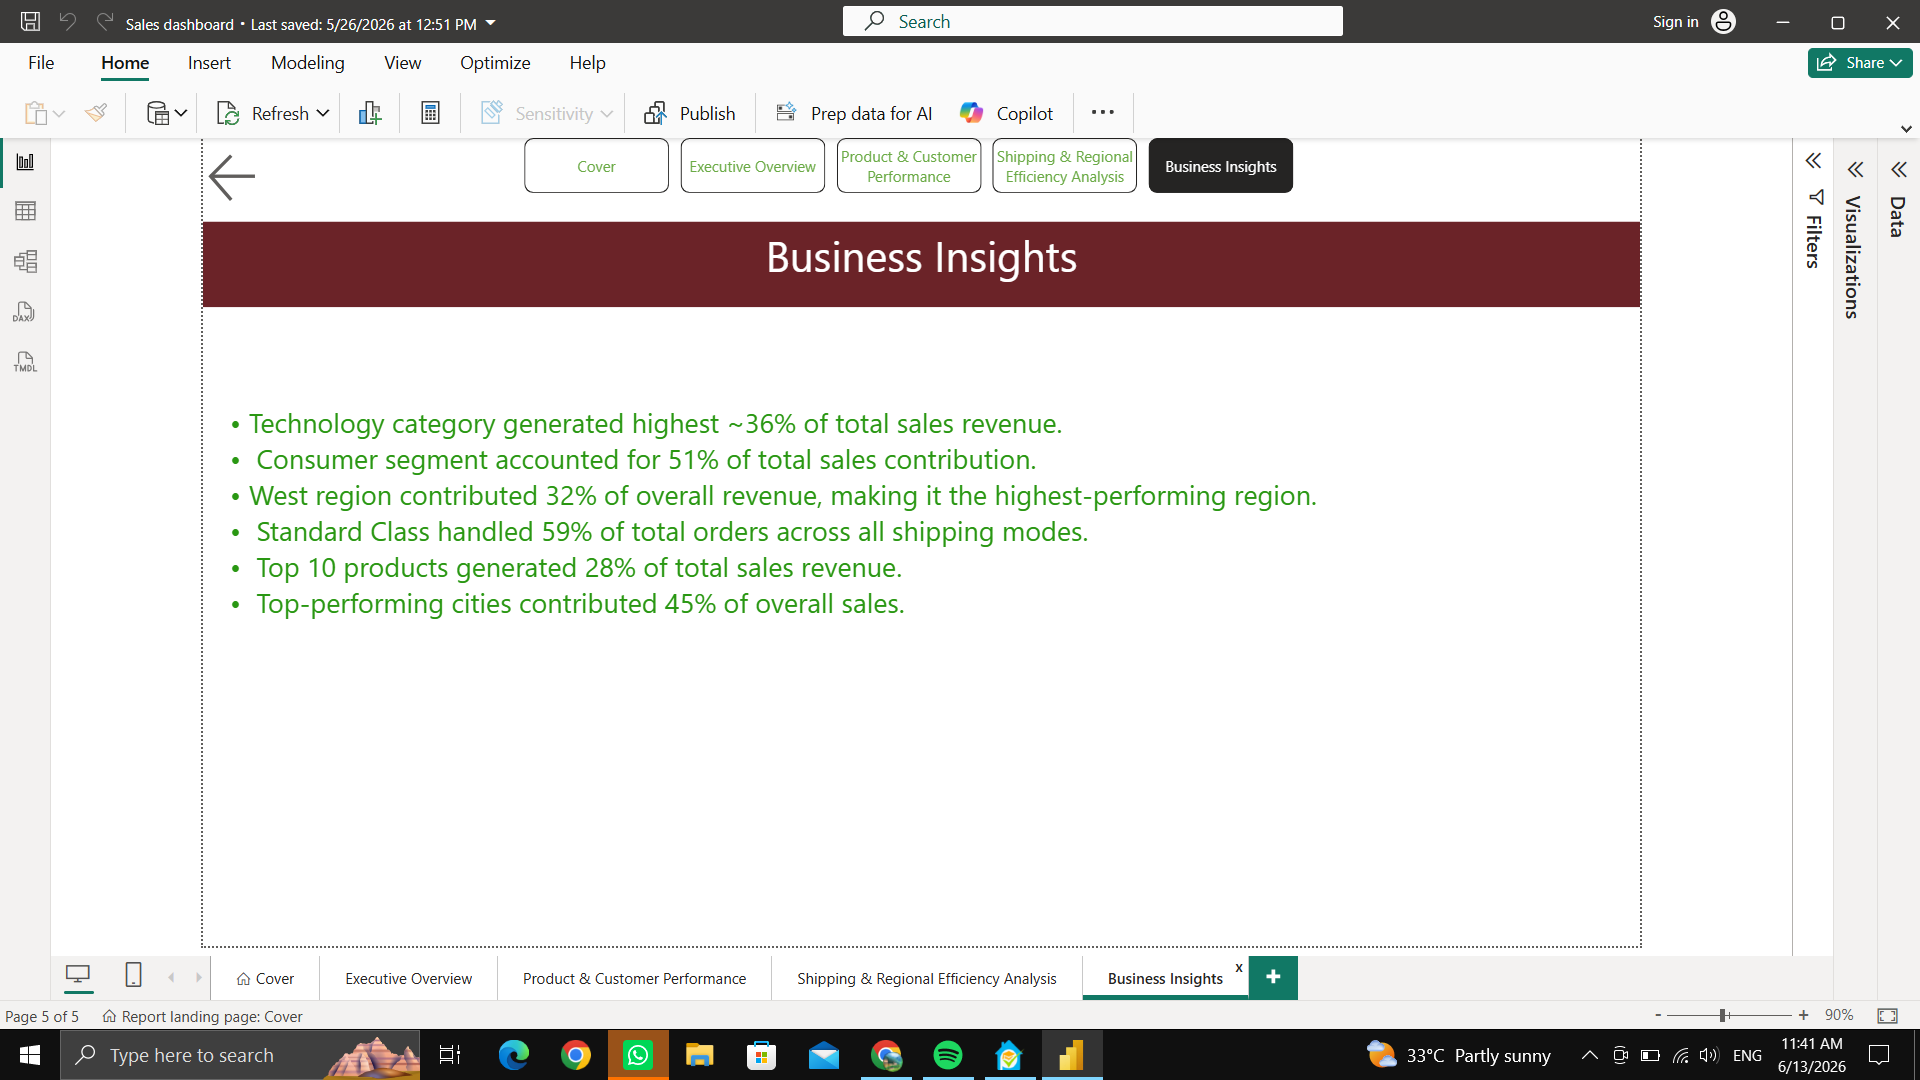

Layout of this report page (visuals, bound fields, positions):
{"tool":"powerbi","page":{"name":"Business Insights","canvas":[1280,720],"ordinal":4},"visuals":[{"type":"textbox","box":[0,196.6,1280,388.5],"z":0},{"type":"textbox","box":[0,74.8,1280,76],"z":1000},{"type":"actionButton","box":[0,8.4,59.1,53.1],"z":1001},{"type":"pageNavigator","box":[285.9,0,688.9,49.5],"z":1002}]}

Visuals, with their boxes on the page's 1280x720 design canvas (x1, y1, x2, y2). These are canvas units, not pixel positions in the 1920x1080 screenshot, which may show the page scaled, cropped or inside an application window:
textbox: [x1=0, y1=197, x2=1280, y2=585]
textbox: [x1=0, y1=75, x2=1280, y2=151]
actionButton: [x1=0, y1=8, x2=59, y2=62]
pageNavigator: [x1=286, y1=0, x2=975, y2=50]
